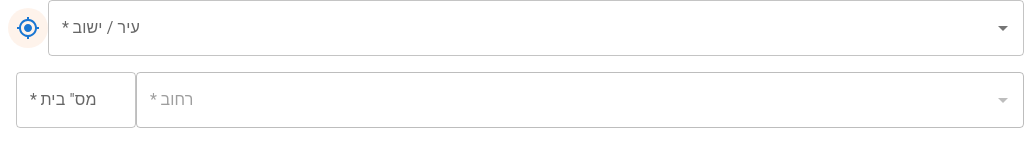
Test: AddressFields — current location › warns when the browser denies location permission
Click the button named "מיקום" at (28, 28), box [8,8,48,48]
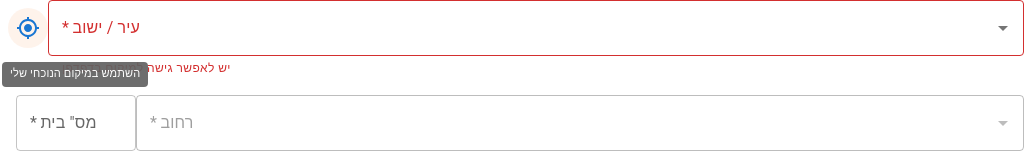
Expected: the text "יש לאפשר גישה למיקום בדפדפן" is shown, [62,61,231,75]
